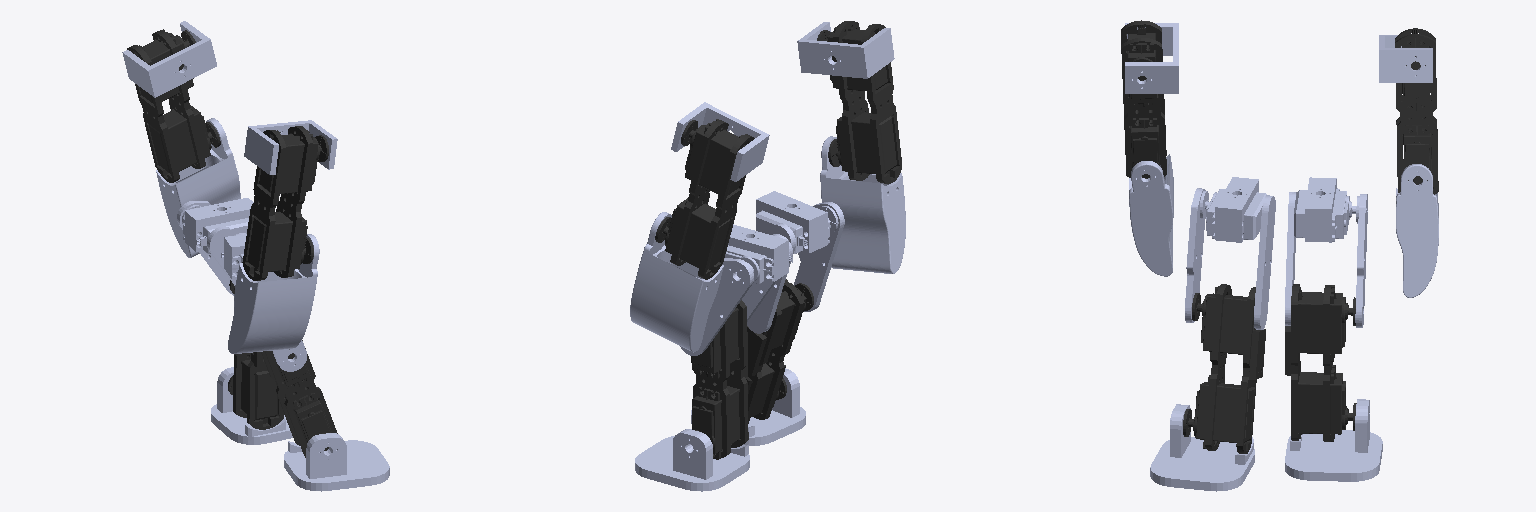
URDF robot description (body_urdf_files):
<?xml version="1.0" encoding="utf-8"?>
<!-- This URDF was automatically created by SolidWorks to URDF Exporter! Originally created by Stephen Brawner (brawner@gmail.com) 
     Commit Version: 1.6.0-4-g7f85cfe  Build Version: 1.6.7995.38578
     For more information, please see http://wiki.ros.org/sw_urdf_exporter -->
<robot
  name="body_urdf_files">
  <link
    name="base_link">
    <inertial>
      <origin
        xyz="-0.11271 0.008711 0.082756"
        rpy="0 0 0" />
      <mass
        value="0.42184" />
      <inertia
        ixx="0.00054477"
        ixy="1.2005E-12"
        ixz="5.5825E-07"
        iyy="0.00040696"
        iyz="-3.7046E-08"
        izz="0.00034189" />
    </inertial>
    <visual>
      <origin
        xyz="0 0 0"
        rpy="0 0 0" />
      <geometry>
        <mesh
          filename="package://meshes/base_link(1).STL" />
      </geometry>
      <material
        name="">
        <color
          rgba="0.79216 0.81961 0.93333 1" />
      </material>
    </visual>
    <collision>
      <origin
        xyz="0 0 0"
        rpy="0 0 0" />
      <geometry>
        <mesh
          filename="/meshes/base_link(1).STL" />
      </geometry>
    </collision>
  </link>
  <link
    name="link_right_leg_1">
    <inertial>
      <origin
        xyz="0.00063243 0.0010516 -0.015001"
        rpy="0 0 0" />
      <mass
        value="0.045094" />
      <inertia
        ixx="6.95E-06"
        ixy="6.6322E-07"
        ixz="-1.7314E-14"
        iyy="1.0766E-05"
        iyz="-6.5247E-13"
        izz="1.417E-05" />
    </inertial>
    <visual>
      <origin
        xyz="0 0 0"
        rpy="0 0 0" />
      <geometry>
        <mesh
          filename="package://meshes/link_right_leg_1.STL" />
      </geometry>
      <material
        name="">
        <color
          rgba="0.79216 0.81961 0.93333 1" />
      </material>
    </visual>
    <collision>
      <origin
        xyz="0 0 0"
        rpy="0 0 0" />
      <geometry>
        <mesh
          filename="package://meshes/link_right_leg_1.STL" />
      </geometry>
    </collision>
  </link>
  <joint
    name="joint_right_leg_1"
    type="revolute">
    <origin
      xyz="-0.1037 -0.021946 0.012166"
      rpy="0 0 3.1416" />
    <parent
      link="base_link" />
    <child
      link="link_right_leg_1" />
    <axis
      xyz="0 0 -1" />
    <limit
      lower="-1.57"
      upper="1.57"
      effort="0.9218"
      velocity="0.2" />
  </joint>
  <link
    name="link_right_leg_2">
    <inertial>
      <origin
        xyz="-0.0179411667908212 -0.0191465626137488 -0.0347537052405199"
        rpy="0 0 0" />
      <mass
        value="0.0235211183496437" />
      <inertia
        ixx="1.57759234089372E-05"
        ixy="6.36270538890195E-07"
        ixz="-4.58679749286696E-06"
        iyy="1.82616481047403E-05"
        iyz="1.10583812995229E-06"
        izz="2.8905282600421E-06" />
    </inertial>
    <visual>
      <origin
        xyz="0 0 0"
        rpy="0 0 0" />
      <geometry>
        <mesh
          filename="package://meshes/link_right_leg_2.STL" />
      </geometry>
      <material
        name="">
        <color
          rgba="0.792156862745098 0.819607843137255 0.933333333333333 1" />
      </material>
    </visual>
    <collision>
      <origin
        xyz="0 0 0"
        rpy="0 0 0" />
      <geometry>
        <mesh
          filename="package://meshes/link_right_leg_2_collision.STL" />
      </geometry>
    </collision>
  </link>
  <joint
    name="joint_right_leg_2"
    type="revolute">
    <origin
      xyz="0.016668 0.025401 -0.01725"
      rpy="0 0 0" />
    <parent
      link="link_right_leg_1" />
    <child
      link="link_right_leg_2" />
    <axis
      xyz="0.23438 0.97215 0" />
    <limit
      lower="-1.57"
      upper="1.57"
      effort="0.9218"
      velocity="0.2" />
  </joint>
  <link
    name="link_right_leg_3">
    <inertial>
      <origin
        xyz="-0.0201854124676288 -0.0252249251338612 -0.0401938897572681"
        rpy="0 0 0" />
      <mass
        value="0.0885710277412263" />
      <inertia
        ixx="3.60043673271805E-05"
        ixy="-5.74462834908742E-07"
        ixz="-7.42124531609947E-06"
        iyy="3.37601077925232E-05"
        iyz="1.78919945034082E-06"
        izz="1.63682608050573E-05" />
    </inertial>
    <visual>
      <origin
        xyz="0 0 0"
        rpy="0 0 0" />
      <geometry>
        <mesh
          filename="package://meshes/link_right_leg_3.STL" />
      </geometry>
      <material
        name="">
        <color
          rgba="0.250980392156863 0.250980392156863 0.250980392156863 1" />
      </material>
    </visual>
    <collision>
      <origin
        xyz="0 0 0"
        rpy="0 0 0" />
      <geometry>
        <mesh
          filename="package://meshes/link_right_leg_3_collision.STL" />
      </geometry>
    </collision>
  </link>
  <joint
    name="joint_right_leg_3"
    type="revolute">
    <origin
      xyz="-0.024254 0.0058474 -0.07164"
      rpy="0 0 0" />
    <parent
      link="link_right_leg_2" />
    <child
      link="link_right_leg_3" />
    <axis
      xyz="0.23438 0.97215 0" />
    <limit
      lower="-1.57"
      upper="1.57"
      effort="0.9218"
      velocity="0.2" />
  </joint>
  <link
    name="link_right_leg_4">
    <inertial>
      <origin
        xyz="0.015863 -0.018727 0.021827"
        rpy="0 0 0" />
      <mass
        value="0.043507" />
      <inertia
        ixx="1.92E-05"
        ixy="1.3179E-06"
        ixz="-2.293E-06"
        iyy="2.0588E-05"
        iyz="1.9775E-06"
        izz="3.3366E-05" />
    </inertial>
    <visual>
      <origin
        xyz="0 0 0"
        rpy="0 0 0" />
      <geometry>
        <mesh
          filename="package://meshes/link_right_leg_4.STL" />
      </geometry>
      <material
        name="">
        <color
          rgba="0.79216 0.81961 0.93333 1" />
      </material>
    </visual>
    <collision>
      <origin
        xyz="0 0 0"
        rpy="0 0 0" />
      <geometry>
        <mesh
          filename="package://meshes/link_right_leg_4_collision.STL" />
      </geometry>
    </collision>
  </link>
  <joint
    name="joint_right_leg_4"
    type="revolute">
    <origin
      xyz="-0.024947 0.015272 -0.081588"
      rpy="3.1416 0 3.1416" />
    <parent
      link="link_right_leg_3" />
    <child
      link="link_right_leg_4" />
    <axis
      xyz="-0.23438 0.97215 0" />
    <limit
      lower="-1.57"
      upper="1.57"
      effort="0.9218"
      velocity="0.2" />
  </joint>
  <link
    name="link_left_leg_1">
    <inertial>
      <origin
        xyz="0.000289531083426817 -0.00119245301812246 -0.0150006224241497"
        rpy="0 0 0" />
      <mass
        value="0.045093545635916" />
      <inertia
        ixx="6.91232751465115E-06"
        ixy="5.42705206394702E-07"
        ixz="-2.03242021535869E-13"
        iyy="1.0803797279876E-05"
        iyz="-6.35887197655272E-13"
        izz="1.41697361849742E-05" />
    </inertial>
    <visual>
      <origin
        xyz="0 0 0"
        rpy="0 0 0" />
      <geometry>
        <mesh
          filename="package://meshes/link_left_leg_1.STL" />
      </geometry>
      <material
        name="">
        <color
          rgba="0.792156862745098 0.819607843137255 0.933333333333333 1" />
      </material>
    </visual>
    <collision>
      <origin
        xyz="0 0 0"
        rpy="0 0 0" />
      <geometry>
        <mesh
          filename="package://meshes/link_left_leg_1_collision.STL" />
      </geometry>
    </collision>
  </link>
  <joint
    name="joint_left_leg_1"
    type="revolute">
    <origin
      xyz="-0.1037 0.039488 0.012166"
      rpy="0 0 3.1416" />
    <parent
      link="base_link" />
    <child
      link="link_left_leg_1" />
    <axis
      xyz="0 0 -1" />
    <limit
      lower="-1.57"
      upper="1.57"
      effort="0.9218"
      velocity="0.2" />
  </joint>
  <link
    name="link_left_leg_2">
    <inertial>
      <origin
        xyz="-0.019188 0.024151 -0.030739"
        rpy="0 0 0" />
      <mass
        value="0.023521" />
      <inertia
        ixx="1.2791E-05"
        ixy="3.7565E-07"
        ixz="-7.0887E-06"
        iyy="1.839E-05"
        iyz="4.7346E-07"
        izz="5.7474E-06" />
    </inertial>
    <visual>
      <origin
        xyz="0 0 0"
        rpy="0 0 0" />
      <geometry>
        <mesh
          filename="package://meshes/link_left_leg_2.STL" />
      </geometry>
      <material
        name="">
        <color
          rgba="0.79216 0.81961 0.93333 1" />
      </material>
    </visual>
    <collision>
      <origin
        xyz="0 0 0"
        rpy="0 0 0" />
      <geometry>
        <mesh
          filename="package://meshes/link_left_leg_2_collision.STL" />
      </geometry>
    </collision>
  </link>
  <joint
    name="joint_left_leg_2"
    type="revolute">
    <origin
      xyz="0.0083212 -0.02922 -0.01725"
      rpy="0 0 0" />
    <parent
      link="link_left_leg_1" />
    <child
      link="link_left_leg_2" />
    <axis
      xyz="0.066643 0.99778 0" />
    <limit
      lower="-1.57"
      upper="1.57"
      effort="0.9218"
      velocity="0.2" />
  </joint>
  <link
    name="link_left_leg_3">
    <inertial>
      <origin
        xyz="0.00261355430144429 0.0291439049418027 -0.0424629084715156"
        rpy="0 0 0" />
      <mass
        value="0.0885710279106685" />
      <inertia
        ixx="3.8718083970177E-05"
        ixy="-3.40398542135061E-07"
        ixz="3.90589175561294E-07"
        iyy="3.36443452169483E-05"
        iyz="-2.60878387824978E-08"
        izz="1.3770307002436E-05" />
    </inertial>
    <visual>
      <origin
        xyz="0 0 0"
        rpy="0 0 0" />
      <geometry>
        <mesh
          filename="package://meshes/link_left_leg_3.STL" />
      </geometry>
      <material
        name="">
        <color
          rgba="0.250980392156863 0.250980392156863 0.250980392156863 1" />
      </material>
    </visual>
    <collision>
      <origin
        xyz="0 0 0"
        rpy="0 0 0" />
      <geometry>
        <mesh
          filename="package://meshes/link_left_leg_3_collision.STL" />
      </geometry>
    </collision>
  </link>
  <joint
    name="joint_left_leg_3"
    type="revolute">
    <origin
      xyz="-0.040987 0.0027375 -0.063776"
      rpy="0 0 0" />
    <parent
      link="link_left_leg_2" />
    <child
      link="link_left_leg_3" />
    <axis
      xyz="0.066643 0.99778 0" />
    <limit
      lower="-1.57"
      upper="1.57"
      effort="0.9218"
      velocity="0.2" />
  </joint>
  <link
    name="link_left_leg_4">
    <inertial>
      <origin
        xyz="-0.0122739796083057 -0.0182225414807927 -0.021826744971205"
        rpy="0 0 0" />
      <mass
        value="0.0870145940816905" />
      <inertia
        ixx="3.9754670635112E-05"
        ixy="4.48152690031577E-09"
        ixz="-3.52336993284012E-06"
        iyy="3.98214690897593E-05"
        iyz="2.35329351813237E-07"
        izz="6.67325017223069E-05" />
    </inertial>
    <visual>
      <origin
        xyz="0 0 0"
        rpy="0 0 0" />
      <geometry>
        <mesh
          filename="package://meshes/link_left_leg_4.STL" />
      </geometry>
      <material
        name="">
        <color
          rgba="0.792156862745098 0.819607843137255 0.933333333333333 1" />
      </material>
    </visual>
    <collision>
      <origin
        xyz="0 0 0"
        rpy="0 0 0" />
      <geometry>
        <mesh
          filename="package://meshes/link_left_leg_4_collision.STL" />
      </geometry>
    </collision>
  </link>
  <joint
    name="joint_left_leg_4"
    type="revolute">
    <origin
      xyz="0.0013479 -9.0028E-05 -0.086194"
      rpy="0 0 0" />
    <parent
      link="link_left_leg_3" />
    <child
      link="link_left_leg_4" />
    <axis
      xyz="-0.066643 -0.99778 0" />
    <limit
      lower="-1.57"
      upper="1.57"
      effort="0.9218"
      velocity="0.2" />
  </joint>
  <link
    name="link_right_arm_1">
    <inertial>
      <origin
        xyz="0.00043229 0.013421 6.0742E-05"
        rpy="0 0 0" />
      <mass
        value="0.015438" />
      <inertia
        ixx="3.3686E-06"
        ixy="-9.3955E-08"
        ixz="-9.7163E-07"
        iyy="8.7062E-06"
        iyz="-1.3202E-08"
        izz="1.0147E-05" />
    </inertial>
    <visual>
      <origin
        xyz="0 0 0"
        rpy="0 0 0" />
      <geometry>
        <mesh
          filename="package://meshes/link_right_arm_1.STL" />
      </geometry>
      <material
        name="">
        <color
          rgba="0.79216 0.81961 0.93333 1" />
      </material>
    </visual>
    <collision>
      <origin
        xyz="0 0 0"
        rpy="0 0 0" />
      <geometry>
        <mesh
          filename="package://meshes/link_right_arm_1_collision.STL" />
      </geometry>
    </collision>
  </link>
  <joint
    name="joint_right_arm_1"
    type="revolute">
    <origin
      xyz="-0.11395 -0.064629 0.11681"
      rpy="0 0 3.1416" />
    <parent
      link="base_link" />
    <child
      link="link_right_arm_1" />
    <axis
      xyz="0 1 0" />
    <limit
      lower="-1.57"
      upper="1.57"
      effort="0.9218"
      velocity="0.2" />
  </joint>
  <link
    name="link_right_arm_2">
    <inertial>
      <origin
        xyz="0.0339602330058164 -0.00140695201636803 -0.0387802160392867"
        rpy="0 0 0" />
      <mass
        value="0.0843265047221693" />
      <inertia
        ixx="3.25873098555874E-05"
        ixy="1.14115097543406E-07"
        ixz="2.67119444403901E-06"
        iyy="3.8257358357345E-05"
        iyz="-8.12127143019655E-07"
        izz="1.39524623316252E-05" />
    </inertial>
    <visual>
      <origin
        xyz="0 0 0"
        rpy="0 0 0" />
      <geometry>
        <mesh
          filename="package://meshes/link_right_arm_2.STL" />
      </geometry>
      <material
        name="">
        <color
          rgba="0.250980392156863 0.250980392156863 0.250980392156863 1" />
      </material>
    </visual>
    <collision>
      <origin
        xyz="0 0 0"
        rpy="0 0 0" />
      <geometry>
        <mesh
          filename="package://meshes/link_right_arm_2_collision.STL" />
      </geometry>
    </collision>
  </link>
  <joint
    name="joint_right_arm_2"
    type="revolute">
    <origin
      xyz="-0.023568 0.0275 -0.0033117"
      rpy="0 0 0" />
    <parent
      link="link_right_arm_1" />
    <child
      link="link_right_arm_2" />
    <axis
      xyz="0.99027 0 0.13915" />
    <limit
      lower="-1.57"
      upper="1.57"
      effort="0.9218"
      velocity="0.2" />
  </joint>
  <link
    name="link_right_arm_3">
    <inertial>
      <origin
        xyz="0.024606 -0.0054508 -0.039884"
        rpy="0 0 0" />
      <mass
        value="0.034964" />
      <inertia
        ixx="2.2521E-05"
        ixy="5.7455E-07"
        ixz="4.2654E-06"
        iyy="3.1751E-05"
        iyz="-1.5469E-06"
        izz="1.7492E-05" />
    </inertial>
    <visual>
      <origin
        xyz="0 0 0"
        rpy="0 0 0" />
      <geometry>
        <mesh
          filename="package://meshes/link_right_arm_3.STL" />
      </geometry>
      <material
        name="">
        <color
          rgba="0.79216 0.81961 0.93333 1" />
      </material>
    </visual>
    <collision>
      <origin
        xyz="0 0 0"
        rpy="0 0 0" />
      <geometry>
        <mesh
          filename="package://meshes/link_right_arm_3_collision.STL" />
      </geometry>
    </collision>
  </link>
  <joint
    name="joint_right_arm_3"
    type="revolute">
    <origin
      xyz="0.011988 -0.0028598 -0.085319"
      rpy="0 0 0" />
    <parent
      link="link_right_arm_2" />
    <child
      link="link_right_arm_3" />
    <axis
      xyz="0.99027 0 0.13915" />
    <limit
      lower="-1.57"
      upper="1.57"
      effort="0.9218"
      velocity="0.2" />
  </joint>
  <link
    name="link_left_arm_1">
    <inertial>
      <origin
        xyz="0.00042348927780031 -0.0134210554645642 -0.000105920018624112"
        rpy="0 0 0" />
      <mass
        value="0.0154375276983831" />
      <inertia
        ixx="3.64724793651552E-06"
        ixy="9.20428943464276E-08"
        ixz="1.65980758563093E-06"
        iyy="8.70624786729584E-06"
        iyz="-2.30210907204673E-08"
        izz="9.868349574434E-06" />
    </inertial>
    <visual>
      <origin
        xyz="0 0 0"
        rpy="0 0 0" />
      <geometry>
        <mesh
          filename="package://meshes/link_left_arm_1.STL" />
      </geometry>
      <material
        name="">
        <color
          rgba="0.792156862745098 0.819607843137255 0.933333333333333 1" />
      </material>
    </visual>
    <collision>
      <origin
        xyz="0 0 0"
        rpy="0 0 0" />
      <geometry>
        <mesh
          filename="package://meshes/link_left_arm_1_collision.STL" />
      </geometry>
    </collision>
  </link>
  <joint
    name="joint_left_arm_1"
    type="revolute">
    <origin
      xyz="-0.11395 0.082171 0.11681"
      rpy="0 0 3.1416" />
    <parent
      link="base_link" />
    <child
      link="link_left_arm_1" />
    <axis
      xyz="0 -1 0" />
    <limit
      lower="-1.57"
      upper="1.57"
      effort="0.9218"
      velocity="0.2" />
  </joint>
  <link
    name="link_left_arm_2">
    <inertial>
      <origin
        xyz="0.0169216197295038 -0.000800020748780966 -0.0487052443915875"
        rpy="0 0 0" />
      <mass
        value="0.0843265053503444" />
      <inertia
        ixx="3.18202864891716E-05"
        ixy="-1.14665652317147E-07"
        ixz="-4.5673950934939E-06"
        iyy="3.82755476300154E-05"
        iyz="-4.58456093141091E-07"
        izz="1.47012967514871E-05" />
    </inertial>
    <visual>
      <origin
        xyz="0 0 0"
        rpy="0 0 0" />
      <geometry>
        <mesh
          filename="package://meshes/link_left_arm_2.STL" />
      </geometry>
      <material
        name="">
        <color
          rgba="0.250980392156863 0.250980392156863 0.250980392156863 1" />
      </material>
    </visual>
    <collision>
      <origin
        xyz="0 0 0"
        rpy="0 0 0" />
      <geometry>
        <mesh
          filename="package://meshes/link_left_arm_2_collision.STL" />
      </geometry>
    </collision>
  </link>
  <joint
    name="joint_left_arm_2"
    type="revolute">
    <origin
      xyz="-0.023089 -0.0275 0.0057748"
      rpy="0 0 0" />
    <parent
      link="link_left_arm_1" />
    <child
      link="link_left_arm_2" />
    <axis
      xyz="0.97012 0 -0.24264" />
    <limit
      lower="-1.57"
      upper="1.57"
      effort="0.9218"
      velocity="0.2" />
  </joint>
  <link
    name="link_left_arm_3">
    <inertial>
      <origin
        xyz="0.0077583625375509 0.000745387915609325 -0.0465328644527464"
        rpy="0 0 0" />
      <mass
        value="0.0349624152925252" />
      <inertia
        ixx="2.47787143663493E-05"
        ixy="-2.17214139362107E-09"
        ixz="1.29123950438143E-06"
        iyy="3.19173997790936E-05"
        iyz="-8.7165428009656E-08"
        izz="1.50664366292392E-05" />
    </inertial>
    <visual>
      <origin
        xyz="0 0 0"
        rpy="0 0 0" />
      <geometry>
        <mesh
          filename="package://meshes/link_left_arm_3.STL" />
      </geometry>
      <material
        name="">
        <color
          rgba="0.792156862745098 0.819607843137255 0.933333333333333 1" />
      </material>
    </visual>
    <collision>
      <origin
        xyz="0 0 0"
        rpy="0 0 0" />
      <geometry>
        <mesh
          filename="package://meshes/link_left_arm_3_collision.STL" />
      </geometry>
    </collision>
  </link>
  <joint
    name="joint_left_arm_3"
    type="revolute">
    <origin
      xyz="-0.020913 -0.0016473 -0.083613"
      rpy="0 0 0" />
    <parent
      link="link_left_arm_2" />
    <child
      link="link_left_arm_3" />
    <axis
      xyz="0.97012 0 -0.24264" />
    <limit
      lower="-1.57"
      upper="1.57"
      effort="0.9218"
      velocity="0.2" />
  </joint>
</robot>

--- Render facts (derived) ---
The picture shows the robot from 3 angles, left to right: view 1: azimuth 30°, elevation 25°; view 2: azimuth 150°, elevation 25°; view 3: azimuth 270°, elevation 25°; orthographic projection.
Model body_urdf_files with 15 links and 14 joints (14 revolute), rooted at base_link, posed every joint at zero.
Visible links, largest first — view 1: link_right_arm_2, link_right_arm_3, link_left_arm_2, link_right_leg_4, link_left_arm_3, link_right_leg_3, link_left_arm_1, link_left_leg_3, link_left_leg_1, link_left_leg_4, link_right_arm_1, link_left_leg_2 (+2 smaller); view 2: link_left_arm_2, link_right_arm_2, link_right_arm_3, link_left_arm_3, link_left_leg_3, link_left_leg_4, link_right_leg_3, link_right_arm_1, link_right_leg_2, link_right_leg_1, link_left_leg_2, link_left_leg_1 (+2 smaller); view 3: link_right_leg_3, link_left_leg_3, link_right_leg_4, link_left_leg_4, link_right_arm_2, link_left_arm_2, link_left_arm_3, link_right_arm_3, link_right_leg_2, link_right_leg_1, link_left_leg_1, link_right_arm_1 (+2 smaller).
Boxes of the visible links, left/top/right/bottom form: link_right_arm_2: left=242, top=126, right=328, bottom=280; link_right_arm_3: left=228, top=234, right=319, bottom=353; link_left_arm_2: left=127, top=29, right=220, bottom=182; link_right_leg_4: left=284, top=433, right=389, bottom=491; link_left_arm_3: left=156, top=118, right=240, bottom=257; link_right_leg_3: left=261, top=340, right=337, bottom=457; link_left_arm_1: left=122, top=21, right=216, bottom=97; link_left_leg_3: left=228, top=280, right=284, bottom=429; link_left_leg_1: left=182, top=198, right=253, bottom=253; link_left_leg_4: left=211, top=367, right=292, bottom=444; link_right_arm_1: left=244, top=120, right=337, bottom=174; link_left_leg_2: left=177, top=201, right=235, bottom=295; link_left_arm_2: left=655, top=119, right=754, bottom=279; link_right_arm_2: left=817, top=21, right=901, bottom=183; link_right_arm_3: left=820, top=136, right=905, bottom=273; link_left_arm_3: left=630, top=212, right=723, bottom=352; link_left_leg_3: left=691, top=300, right=748, bottom=459; link_left_leg_4: left=635, top=429, right=749, bottom=491; link_right_leg_3: left=746, top=279, right=813, bottom=423; link_right_arm_1: left=797, top=22, right=894, bottom=78; link_right_leg_2: left=747, top=202, right=844, bottom=333; link_right_leg_1: left=756, top=191, right=838, bottom=253; link_left_leg_2: left=680, top=234, right=792, bottom=355; link_left_leg_1: left=725, top=224, right=792, bottom=283; link_right_leg_3: left=1183, top=284, right=1265, bottom=453; link_left_leg_3: left=1285, top=284, right=1356, bottom=441; link_right_leg_4: left=1150, top=404, right=1254, bottom=491; link_left_leg_4: left=1285, top=399, right=1382, bottom=481; link_right_arm_2: left=1121, top=20, right=1166, bottom=178; link_left_arm_2: left=1395, top=28, right=1438, bottom=194; link_left_arm_3: left=1396, top=164, right=1438, bottom=297; link_right_arm_3: left=1129, top=154, right=1173, bottom=276; link_right_leg_2: left=1185, top=188, right=1275, bottom=329; link_right_leg_1: left=1200, top=177, right=1266, bottom=242; link_left_leg_1: left=1294, top=177, right=1359, bottom=242; link_right_arm_1: left=1125, top=23, right=1178, bottom=93.
Size in the robot's own frame: 0.1511 by 0.2345 by 0.3256 metres.
Meshes: 15 distinct files referenced, 14 mesh visuals loaded (14 binary STL); not drawn: 1 (reference not matched to a file when rendering).
